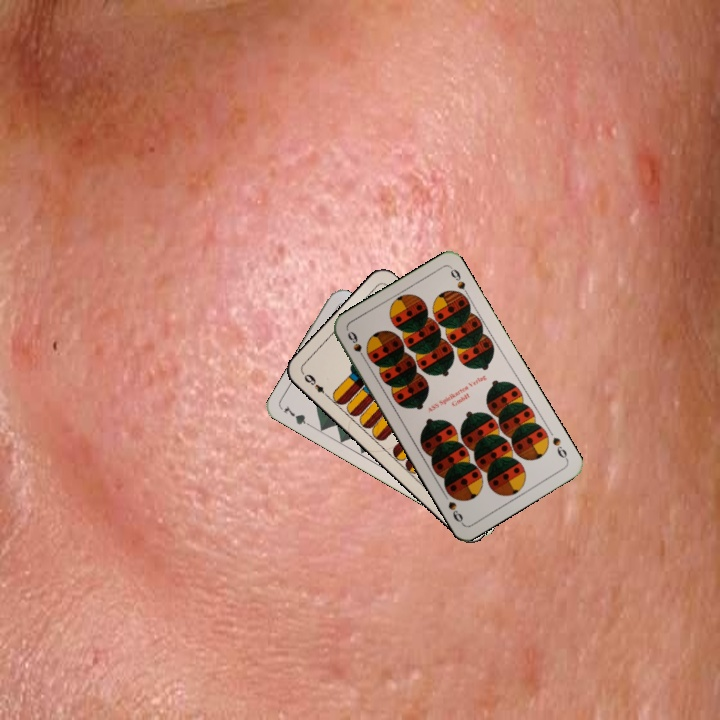E9: (299, 369, 332, 401)
G7: (279, 401, 316, 430)
S9: (343, 327, 369, 364), (548, 433, 571, 463)
